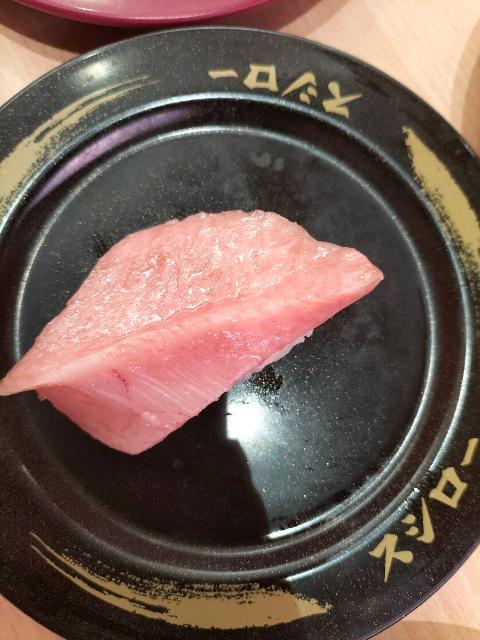janback: (0, 30, 473, 628), (6, 0, 266, 35)
